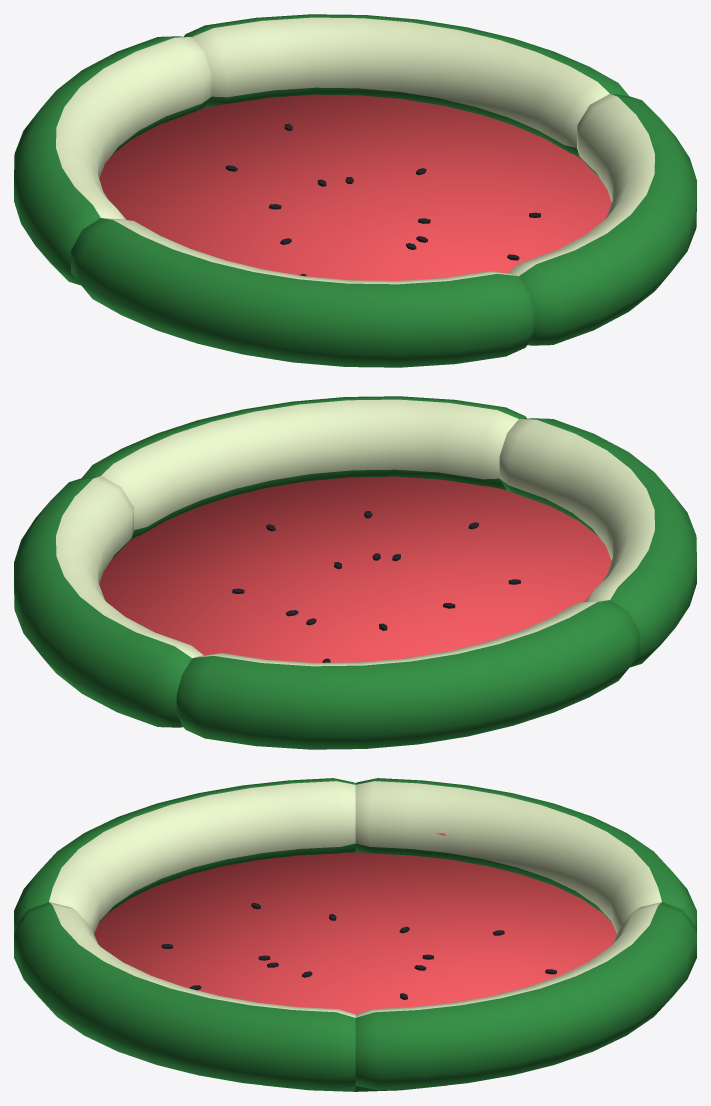
The model's file is R06_WatermelonRind.fbx.
The picture shows the model from 3 angles, top to bottom: view 1: azimuth 30°, elevation 25°; view 2: azimuth 150°, elevation 25°; view 3: azimuth 270°, elevation 25°; orthographic projection. The views are drawn at different scales.
Visible parts, largest first — view 1: Raft_Floor, Chamber_0_NE, Chamber_3_SO, Chamber_1_NO, Chamber_2_SE, Raft_Deco; view 2: Raft_Floor, Chamber_2_SE, Chamber_1_NO, Chamber_3_SO, Chamber_0_NE, Raft_Deco; view 3: Raft_Floor, Chamber_1_NO, Chamber_3_SO, Chamber_2_SE, Chamber_0_NE, Raft_Deco.
Part boxes in pixels (x1,y1,x2,y2): Raft_Floor: (99,94,611,280); Chamber_0_NE: (71,218,534,367); Chamber_3_SO: (184,14,628,159); Chamber_1_NO: (507,94,696,345); Chamber_2_SE: (14,36,211,285); Raft_Deco: (225,123,540,276); Raft_Floor: (99,476,611,662); Chamber_2_SE: (176,600,639,749); Chamber_1_NO: (82,396,526,541); Chamber_3_SO: (14,476,203,727); Chamber_0_NE: (499,418,696,667); Raft_Deco: (232,511,520,662); Raft_Floor: (94,852,616,1014); Chamber_1_NO: (14,902,355,1090); Chamber_3_SO: (355,902,696,1090); Chamber_2_SE: (355,778,696,933); Chamber_0_NE: (14,778,355,933); Raft_Deco: (161,902,556,1091).
Bounding box in the file's own units: 4.22 × 1.05 × 4.61.
